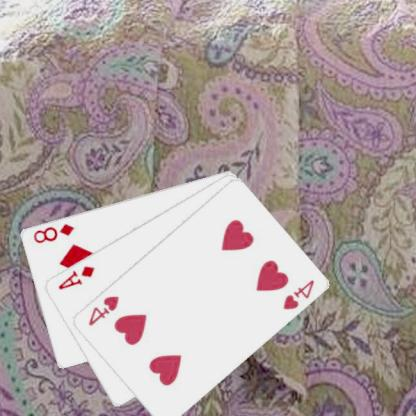4H: (86, 292, 122, 328), (282, 277, 318, 311)
8D: (32, 220, 77, 245)
AD: (57, 262, 98, 292)
